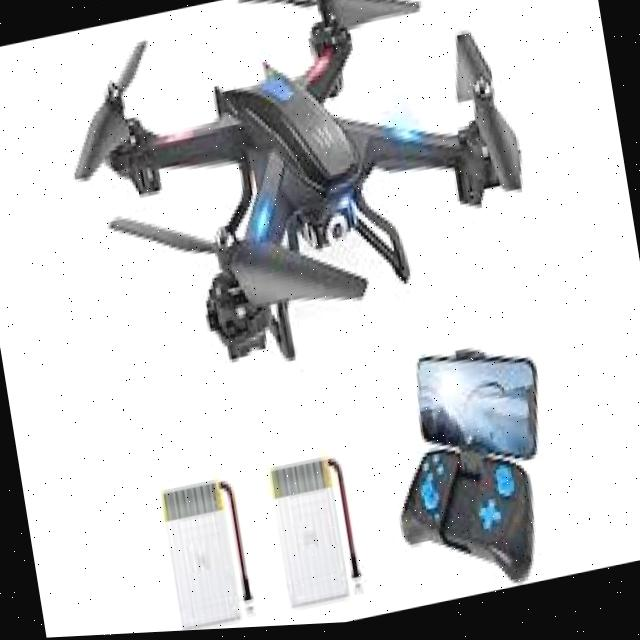drone: (40, 0, 578, 411)
